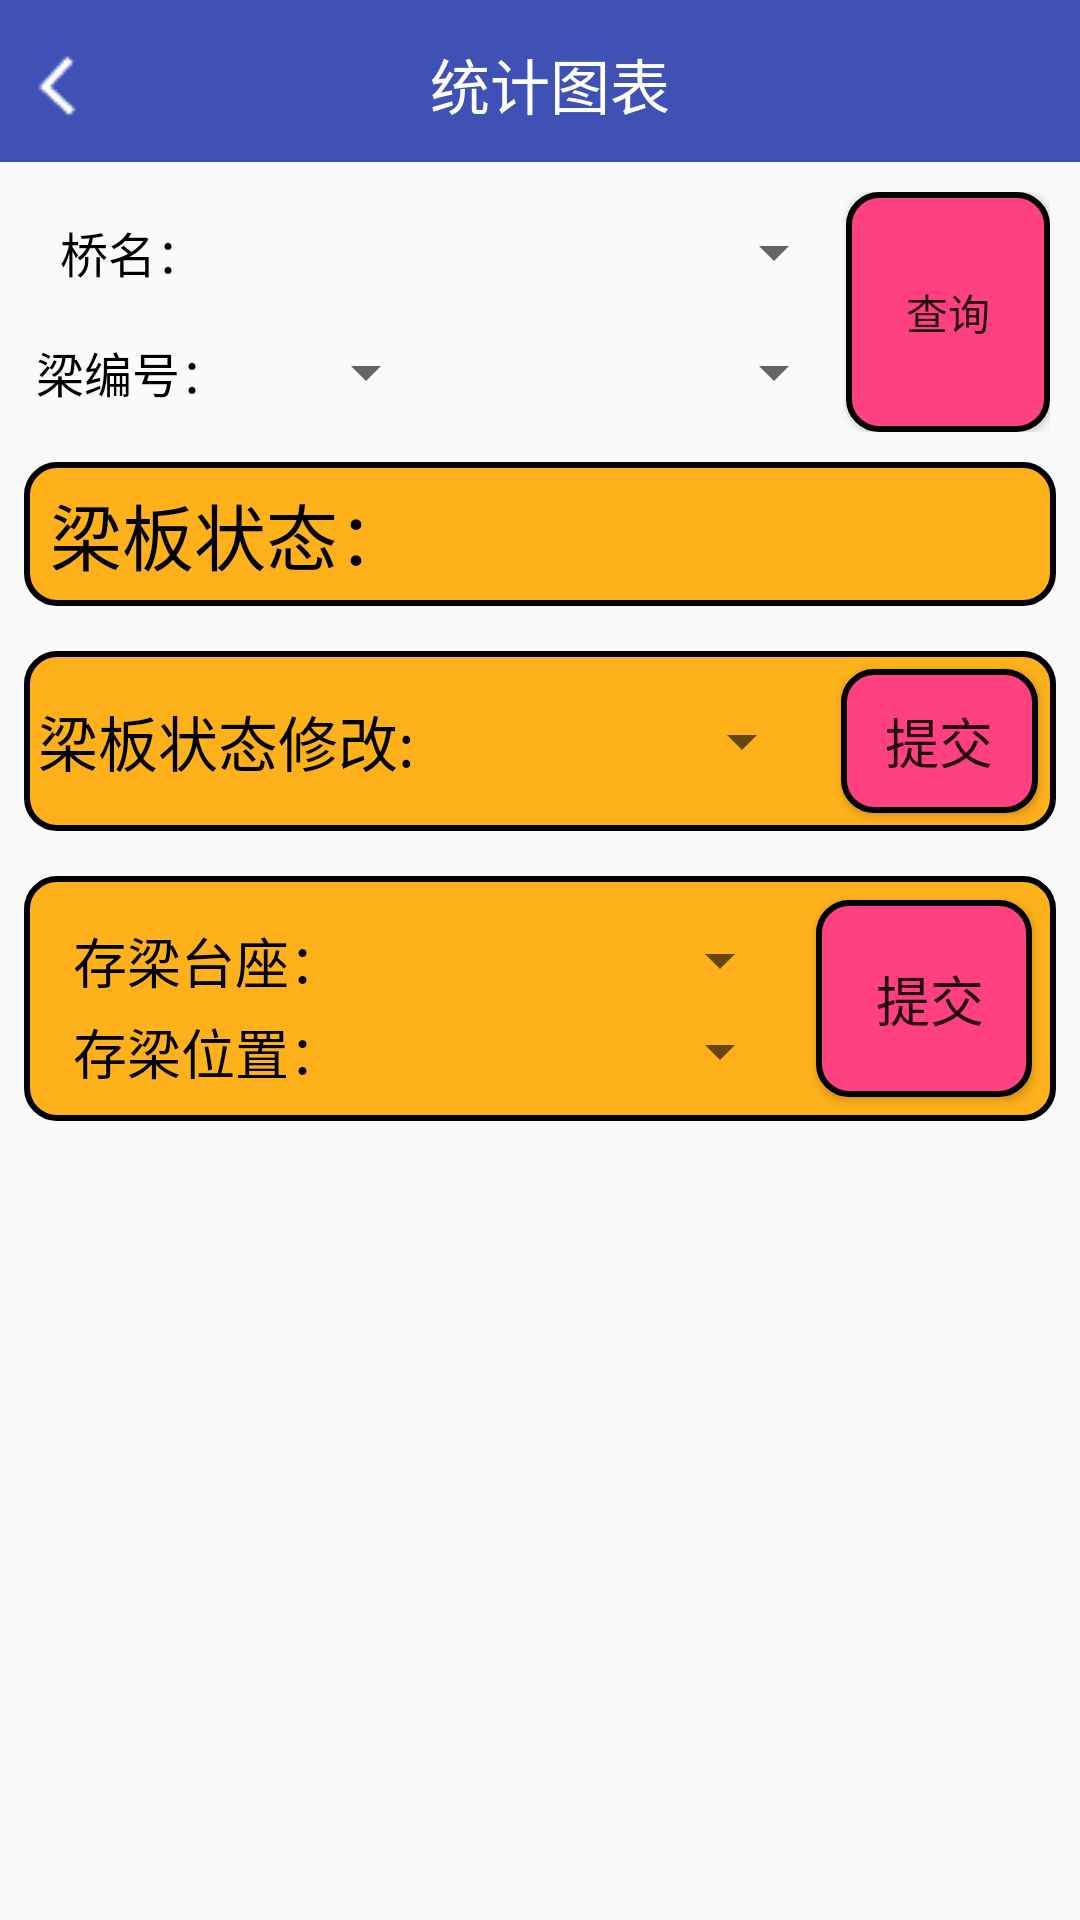

Icon click points for this 1080×1920 phone screenshot, format [x,y]:
back: [57,85]
